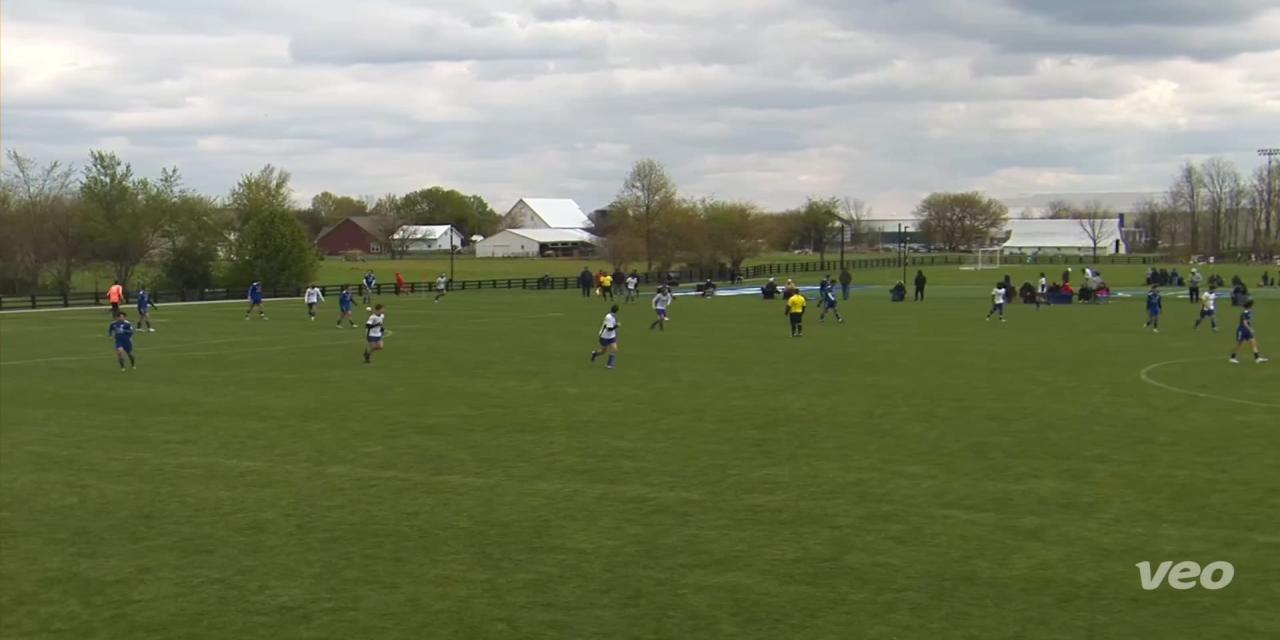sports ball: (363, 302, 373, 316)
